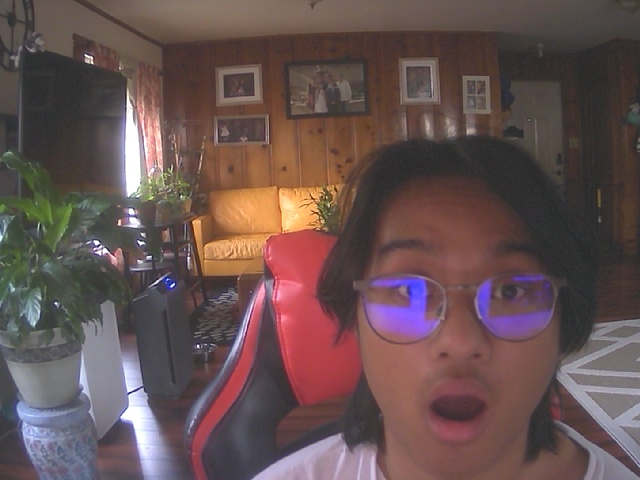fear: (351, 169, 565, 480)
